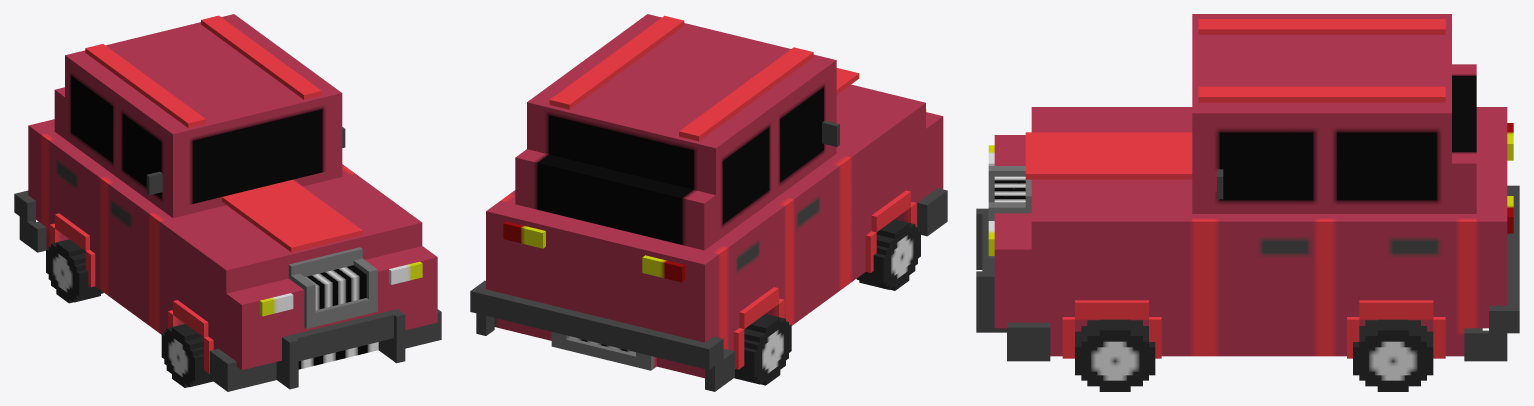
Rendered from car_detail_4.fbx.
3 views of the same model, side by side, from view 1: azimuth 30°, elevation 25°; view 2: azimuth 150°, elevation 25°; view 3: azimuth 270°, elevation 25° (orthographic). The views are drawn at different scales.
Parts seen in each view (by area): view 1: body, back_left_wheel, back_right_wheel; view 2: body, back_right_wheel, back_left_wheel; view 3: body, front_left_wheel, front_right_wheel.
Boxes of the visible parts, x1=… form: body: x1=14, y1=14, x2=441, y2=391; back_left_wheel: x1=46, y1=239, x2=103, y2=303; back_right_wheel: x1=161, y1=324, x2=212, y2=387; body: x1=470, y1=14, x2=947, y2=391; back_right_wheel: x1=856, y1=219, x2=920, y2=290; back_left_wheel: x1=734, y1=314, x2=791, y2=385; body: x1=976, y1=14, x2=1519, y2=361; front_left_wheel: x1=1353, y1=319, x2=1433, y2=391; front_right_wheel: x1=1075, y1=319, x2=1155, y2=391.
Size of the model in its own units: 50 by 48 by 88.
Materials: 1 (1 with a texture image).
